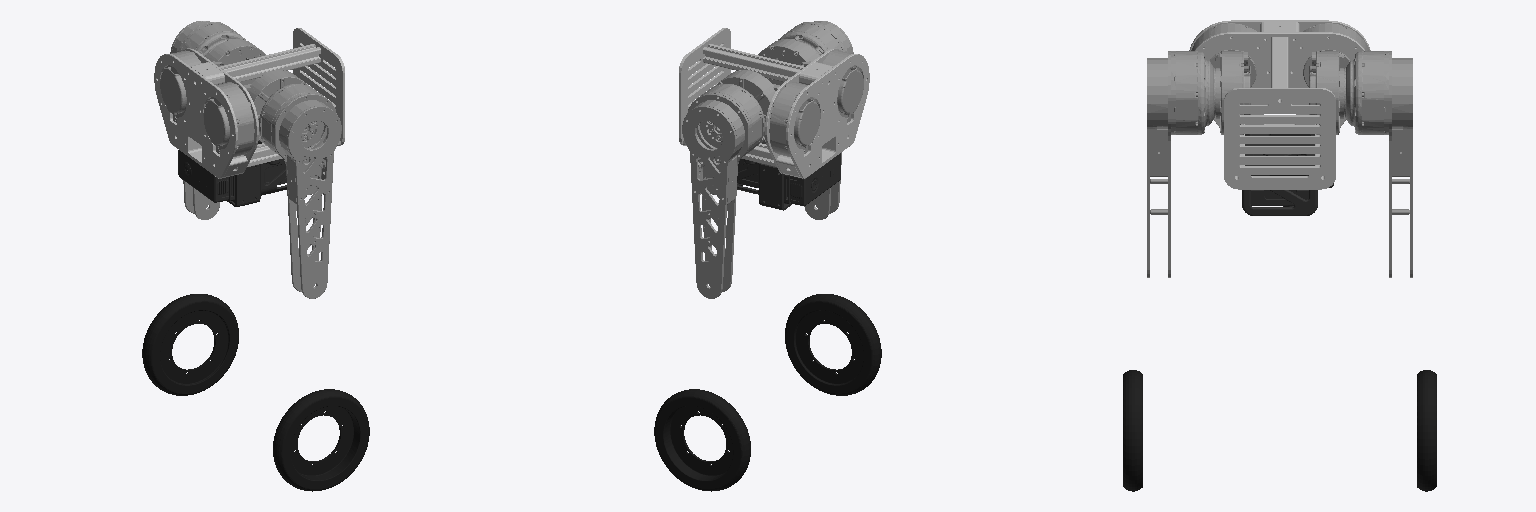
The robot description file, URDF, robot "bipedal_new":
<?xml version="1.0" encoding="utf-8"?>
<!-- This URDF was automatically created by SolidWorks to URDF Exporter! Originally created by [author] ([email redacted]) 
     Commit Version: 1.6.0-4-g7f85cfe  Build Version: 1.6.7995.38578
     For more information, please see http://wiki.ros.org/sw_urdf_exporter -->
<robot
  name="bipedal_new">
  <link name="dummy_link"/>  
  <joint name="dummy_joint" type="floating">
    <parent link="dummy_link"/>
    <child link="base_link"/>
    <origin xyz="0 0 0" rpy="0 0 0"/>
  </joint>
  <link
    name="base_link">
    <inertial>
      <origin
        xyz="-0.05272 0.20013 1.7214E-06"
        rpy="0 0 0" />
      <mass
        value="0.62" />
      <inertia
        ixx="0.0014154"
        ixy="-8.2759E-05"
        ixz="-1.9968E-08"
        iyy="0.0023701"
        iyz="3.238E-09"
        izz="0.0022774" />
    </inertial>
    <visual>
      <origin
        xyz="0 0 0"
        rpy="0 0 0" />
      <geometry>
        <mesh
          filename="package://bipedal_new/meshes/base_link.STL" />
      </geometry>
      <material
        name="">
        <color
          rgba="0.74902 0.74902 0.74902 1" />
      </material>
    </visual>
    <collision>
      <origin
        xyz="0 0 0"
        rpy="0 0 0" />
      <geometry>
        <mesh
          filename="package://bipedal_new/meshes/base_link.STL" />
      </geometry>
    </collision>
  </link>
  <link
    name="hip_r">
    <inertial>
      <origin
        xyz="0.0032326 -8.9496E-05 0.066165"
        rpy="0 0 0" />
      <mass
        value="0.536" />
      <inertia
        ixx="0.00021465"
        ixy="-2.4475E-07"
        ixz="-2.2372E-07"
        iyy="0.00012018"
        iyz="3.0046E-07"
        izz="0.00012408" />
    </inertial>
    <visual>
      <origin
        xyz="0 0 0"
        rpy="0 0 0" />
      <geometry>
        <mesh
          filename="package://bipedal_new/meshes/hip_r.STL" />
      </geometry>
      <material
        name="">
        <color
          rgba="0.62745 0.62745 0.62745 1" />
      </material>
    </visual>
    <collision>
      <origin
        xyz="0 0 0"
        rpy="0 0 0" />
      <geometry>
        <mesh
          filename="package://bipedal_new/meshes/hip_r.STL" />
      </geometry>
    </collision>
  </link>
  <joint
    name="hip_r"
    type="fixed">
    <origin
      xyz="-0.09755 0.01 0.22494"
      rpy="1.5708 0 0" />
    <parent
      link="base_link" />
    <child
      link="hip_r" />
    <axis
      xyz="0 0 0" />
  </joint>
  <link
    name="hip1_r">
    <inertial>
      <origin
        xyz="0.050012 -8.4178E-05 0.00066363"
        rpy="0 0 0" />
      <mass
        value="0.573" />
      <inertia
        ixx="0.00013072"
        ixy="3.5562E-07"
        ixz="-3.3092E-06"
        iyy="0.00015128"
        iyz="-2.3793E-07"
        izz="0.00024737" />
    </inertial>
    <visual>
      <origin
        xyz="0 0 0"
        rpy="0 0 0" />
      <geometry>
        <mesh
          filename="package://bipedal_new/meshes/hip1_r.STL" />
      </geometry>
      <material
        name="">
        <color
          rgba="0.62745 0.62745 0.62745 1" />
      </material>
    </visual>
    <collision>
      <origin
        xyz="0 0 0"
        rpy="0 0 0" />
      <geometry>
        <mesh
          filename="package://bipedal_new/meshes/hip1_r.STL" />
      </geometry>
    </collision>
  </link>
  <joint
    name="hip1_r"
    type="revolute">
    <origin
      xyz="0.02195 0 0.06625"
      rpy="0 0 0" />
    <parent
      link="hip_r" />
    <child
      link="hip1_r" />
    <axis
      xyz="1 0 0" />
    <limit
      lower="0"
      upper="0"
      effort="0"
      velocity="0" />
  </joint>
  <link
    name="thigh_r">
    <inertial>
      <origin
        xyz="-6.2369E-05 -0.021371 0.039555"
        rpy="0 0 0" />
      <mass
        value="0.9105" />
      <inertia
        ixx="0.001452"
        ixy="1.5255E-08"
        ixz="-3.236E-07"
        iyy="0.00038047"
        iyz="0.00020329"
        izz="0.0014985" />
    </inertial>
    <visual>
      <origin
        xyz="0 0 0"
        rpy="0 0 0" />
      <geometry>
        <mesh
          filename="package://bipedal_new/meshes/thigh_r.STL" />
      </geometry>
      <material
        name="">
        <color
          rgba="0.62745 0.62745 0.62745 1" />
      </material>
    </visual>
    <collision>
      <origin
        xyz="0 0 0"
        rpy="0 0 0" />
      <geometry>
        <mesh
          filename="package://bipedal_new/meshes/thigh_r.STL" />
      </geometry>
    </collision>
  </link>
  <joint
    name="thigh_r"
    type="revolute">
    <origin
      xyz="0.05325 0 0.019903"
      rpy="0 0 0" />
    <parent
      link="hip1_r" />
    <child
      link="thigh_r" />
    <axis
      xyz="0 0 1" />
    <limit
      lower="0"
      upper="0"
      effort="0"
      velocity="0" />
  </joint>
  <link
    name="calf_r">
    <inertial>
      <origin
        xyz="1.5223E-05 -0.028045 -0.16158"
        rpy="0 0 0" />
      <mass
        value="0.555" />
      <inertia
        ixx="0.001409"
        ixy="-6.9197E-08"
        ixz="-1.1379E-06"
        iyy="0.0014225"
        iyz="-9.5527E-05"
        izz="8.2506E-05" />
    </inertial>
    <visual>
      <origin
        xyz="0 0 0"
        rpy="0 0 0" />
      <geometry>
        <mesh
          filename="package://bipedal_new/meshes/calf_r.STL" />
      </geometry>
      <material
        name="">
        <color
          rgba="1 1 1 1" />
      </material>
    </visual>
    <collision>
      <origin
        xyz="0 0 0"
        rpy="0 0 0" />
      <geometry>
        <mesh
          filename="package://bipedal_new/meshes/calf_r.STL" />
      </geometry>
    </collision>
  </link>
  <joint
    name="calf_r"
    type="revolute">
    <origin
      xyz="0 -0.215 0.044042"
      rpy="-1.5708 0 0" />
    <parent
      link="thigh_r" />
    <child
      link="calf_r" />
    <axis
      xyz="0 1 0" />
    <limit
      lower="0"
      upper="0"
      effort="0"
      velocity="0" />
  </joint>
  <link
    name="wheel_r">
    <inertial>
      <origin
        xyz="2.498E-16 -0.010766 -6.4115E-15"
        rpy="0 0 0" />
      <!-- <mass
        value="0.2805" /> -->
      <mass
        value="0." />
      <inertia
        ixx="0.00029524"
        ixy="1.6111E-18"
        ixz="2.1558E-19"
        iyy="0.00057738"
        iyz="-9.0456E-19"
        izz="0.00029524" />
    </inertial>
    <visual>
      <origin
        xyz="0 0 0"
        rpy="0 0 0" />
      <geometry>
        <mesh
          filename="package://bipedal_new/meshes/wheel_r.STL" />
      </geometry>
      <material
        name="">
        <color
          rgba="0.15294 0.15294 0.15294 1" />
      </material>
    </visual>
    <collision>
      <origin
        xyz="0 0 0"
        rpy="0 0 0" />
      <geometry>
        <mesh
          filename="package://bipedal_new/meshes/wheel_r.STL" />
      </geometry>
    </collision>
  </link>
  <joint
    name="wheel_r"
    type="continuous">
    <origin
      xyz="0 -0.037855 -0.215"
      rpy="0 0 0" />
    <parent
      link="calf_r" />
    <child
      link="wheel_r" />
    <axis
      xyz="0 1 0" />
  </joint>
  <link
    name="hip_l">
    <inertial>
      <origin
        xyz="0.0032326 -8.9496E-05 -0.046335"
        rpy="0 0 0" />
      <mass
        value="0.536" />
      <inertia
        ixx="0.00021465"
        ixy="-2.4475E-07"
        ixz="-2.2372E-07"
        iyy="0.00012018"
        iyz="3.0046E-07"
        izz="0.00012408" />
    </inertial>
    <visual>
      <origin
        xyz="0 0 0"
        rpy="0 0 0" />
      <geometry>
        <mesh
          filename="package://bipedal_new/meshes/hip_l.STL" />
      </geometry>
      <material
        name="">
        <color
          rgba="0.62745 0.62745 0.62745 1" />
      </material>
    </visual>
    <collision>
      <origin
        xyz="0 0 0"
        rpy="0 0 0" />
      <geometry>
        <mesh
          filename="package://bipedal_new/meshes/hip_l.STL" />
      </geometry>
    </collision>
  </link>
  <joint
    name="hip_l"
    type="fixed">
    <origin
      xyz="-0.09755 0.01 0.22494"
      rpy="1.5708 0 0" />
    <parent
      link="base_link" />
    <child
      link="hip_l" />
    <axis
      xyz="0 0 0" />
  </joint>
  <link
    name="hip1_l">
    <inertial>
      <origin
        xyz="0.050012 -8.4172E-05 -0.00066363"
        rpy="0 0 0" />
      <mass
        value="0.573" />
      <inertia
        ixx="0.00013072"
        ixy="3.5551E-07"
        ixz="3.3093E-06"
        iyy="0.00015128"
        iyz="2.3794E-07"
        izz="0.00024737" />
    </inertial>
    <visual>
      <origin
        xyz="0 0 0"
        rpy="0 0 0" />
      <geometry>
        <mesh
          filename="package://bipedal_new/meshes/hip1_l.STL" />
      </geometry>
      <material
        name="">
        <color
          rgba="0.62745 0.62745 0.62745 1" />
      </material>
    </visual>
    <collision>
      <origin
        xyz="0 0 0"
        rpy="0 0 0" />
      <geometry>
        <mesh
          filename="package://bipedal_new/meshes/hip1_l.STL" />
      </geometry>
    </collision>
  </link>
  <joint
    name="hip1_l"
    type="revolute">
    <origin
      xyz="0.02195 0 -0.04625"
      rpy="0 0 0" />
    <parent
      link="hip_l" />
    <child
      link="hip1_l" />
    <axis
      xyz="1 0 0" />
    <limit
      lower="0"
      upper="0"
      effort="0"
      velocity="0" />
  </joint>
  <link
    name="thigh_l">
    <inertial>
      <origin
        xyz="-6.2397E-05 -0.021371 -0.039555"
        rpy="0 0 0" />
      <mass
        value="0.9105" />
      <inertia
        ixx="0.001452"
        ixy="1.5171E-08"
        ixz="3.2362E-07"
        iyy="0.00038047"
        iyz="-0.0002033"
        izz="0.0014985" />
    </inertial>
    <visual>
      <origin
        xyz="0 0 0"
        rpy="0 0 0" />
      <geometry>
        <mesh
          filename="package://bipedal_new/meshes/thigh_l.STL" />
      </geometry>
      <material
        name="">
        <color
          rgba="0.62745 0.62745 0.62745 1" />
      </material>
    </visual>
    <collision>
      <origin
        xyz="0 0 0"
        rpy="0 0 0" />
      <geometry>
        <mesh
          filename="package://bipedal_new/meshes/thigh_l.STL" />
      </geometry>
    </collision>
  </link>
  <joint
    name="thigh_l"
    type="revolute">
    <origin
      xyz="0.05325 0 -0.019903"
      rpy="0 0 0" />
    <parent
      link="hip1_l" />
    <child
      link="thigh_l" />
    <axis
      xyz="0 0 1" />
    <limit
      lower="0"
      upper="0"
      effort="0"
      velocity="0" />
  </joint>
  <link
    name="calf_l">
    <inertial>
      <origin
        xyz="1.5713E-05 -0.028045 0.16157"
        rpy="0 0 0" />
      <mass
        value="0.555" />
      <inertia
        ixx="0.001409"
        ixy="-7.0302E-08"
        ixz="1.1423E-06"
        iyy="0.0014225"
        iyz="9.5525E-05"
        izz="8.2518E-05" />
    </inertial>
    <visual>
      <origin
        xyz="0 0 0"
        rpy="0 0 0" />
      <geometry>
        <mesh
          filename="package://bipedal_new/meshes/calf_l.STL" />
      </geometry>
      <material
        name="">
        <color
          rgba="1 1 1 1" />
      </material>
    </visual>
    <collision>
      <origin
        xyz="0 0 0"
        rpy="0 0 0" />
      <geometry>
        <mesh
          filename="package://bipedal_new/meshes/calf_l.STL" />
      </geometry>
    </collision>
  </link>
  <joint
    name="calf_l"
    type="revolute">
    <origin
      xyz="0 -0.215 -0.044042"
      rpy="1.5708 0 0" />
    <parent
      link="thigh_l" />
    <child
      link="calf_l" />
    <axis
      xyz="0 1 0" />
    <limit
      lower="0"
      upper="0"
      effort="0"
      velocity="0" />
  </joint>
  <link
    name="wheel_l">
    <inertial>
      <origin
        xyz="-1.4919E-16 -0.010766 6.5781E-15"
        rpy="0 0 0" />
      <!-- <mass
        value="0.2805" /> -->
      <mass
        value="0." />
      <inertia
        ixx="0.00029524"
        ixy="1.6902E-18"
        ixz="2.3579E-19"
        iyy="0.00057738"
        iyz="7.0857E-19"
        izz="0.00029524" />
    </inertial>
    <visual>
      <origin
        xyz="0 0 0"
        rpy="0 0 0" />
      <geometry>
        <mesh
          filename="package://bipedal_new/meshes/wheel_l.STL" />
      </geometry>
      <material
        name="">
        <color
          rgba="0.15294 0.15294 0.15294 1" />
      </material>
    </visual>
    <collision>
      <origin
        xyz="0 0 0"
        rpy="0 0 0" />
      <geometry>
        <mesh
          filename="package://bipedal_new/meshes/wheel_l.STL" />
      </geometry>
    </collision>
  </link>
  <joint
    name="wheel_l"
    type="continuous">
    <origin
      xyz="0 -0.037855 0.215"
      rpy="0 0 0" />
    <parent
      link="calf_l" />
    <child
      link="wheel_l" />
    <axis
      xyz="0 1 0" />
  </joint>
  <link
    name="battery">
    <inertial>
      <origin
        xyz="-0.0058692 -0.10385 0.017252"
        rpy="0 0 0" />
      <mass
        value="0.672" />
      <inertia
        ixx="8.8345E-07"
        ixy="-1.6203E-13"
        ixz="7.6432E-10"
        iyy="8.6395E-07"
        iyz="-1.7993E-12"
        izz="5.4571E-08" />
    </inertial>
    <visual>
      <origin
        xyz="0 0 0"
        rpy="0 0 0" />
      <geometry>
        <mesh
          filename="package://bipedal_new/meshes/battery.STL" />
      </geometry>
      <material
        name="">
        <color
          rgba="0.24706 0.24706 0.24706 1" />
      </material>
    </visual>
    <collision>
      <origin
        xyz="0 0 0"
        rpy="0 0 0" />
      <geometry>
        <mesh
          filename="package://bipedal_new/meshes/battery.STL" />
      </geometry>
    </collision>
  </link>
  <joint
    name="battery"
    type="fixed">
    <origin
      xyz="-0.10845 -0.01 0.22594"
      rpy="1.5708 0 -3.1416" />
    <parent
      link="base_link" />
    <child
      link="battery" />
    <axis
      xyz="0 0 0" />
  </joint>
</robot>

--- Facts derived from the render (not from the file) ---
3 views of the same robot in one strip: view 1: azimuth 30°, elevation 25°; view 2: azimuth 150°, elevation 25°; view 3: azimuth 270°, elevation 25° (orthographic).
Model bipedal_new with 13 links and 12 joints (6 revolute, 2 continuous, 3 fixed, 1 floating), rooted at dummy_link, posed all joints at 0.
Visible links, largest first — view 1: base_link, thigh_r, wheel_r, wheel_l, battery, hip_r, thigh_l, hip_l, hip1_r, hip1_l; view 2: base_link, thigh_l, wheel_l, wheel_r, battery, thigh_r, hip_l, hip_r, hip1_l, hip1_r; view 3: base_link, thigh_r, thigh_l, battery, wheel_r, wheel_l, hip1_r, hip1_l, hip_l, hip_r.
Boxes of the visible links, x1,y1,x2,y2 form: base_link: (154,28,344,178); thigh_r: (259,84,341,298); wheel_r: (273,389,369,491); wheel_l: (142,294,238,395); battery: (178,141,286,206); hip_r: (203,82,254,156); thigh_l: (170,21,245,219); hip_l: (160,50,201,122); hip1_r: (244,70,306,143); hip1_l: (206,39,265,85); base_link: (679,28,869,178); thigh_l: (682,84,764,298); wheel_l: (654,389,750,491); wheel_r: (785,294,881,395); battery: (737,141,840,210); thigh_r: (778,21,853,219); hip_l: (769,82,820,156); hip_r: (822,50,863,122); hip1_l: (717,70,779,143); hip1_r: (758,39,817,85); base_link: (1189,20,1370,189); thigh_r: (1147,51,1213,277); thigh_l: (1346,51,1412,277); battery: (1242,134,1333,215); wheel_r: (1123,370,1142,491); wheel_l: (1417,370,1436,491); hip1_r: (1214,51,1250,134); hip1_l: (1309,51,1345,134); hip_l: (1291,23,1368,86); hip_r: (1191,23,1268,86).
Size in the robot's own frame: 0.192 by 0.3621 by 0.5503 metres.
Meshes: 12 distinct files referenced, 10 mesh visuals loaded (10 binary STL); not drawn: 2 (reference not matched to a file when rendering).
